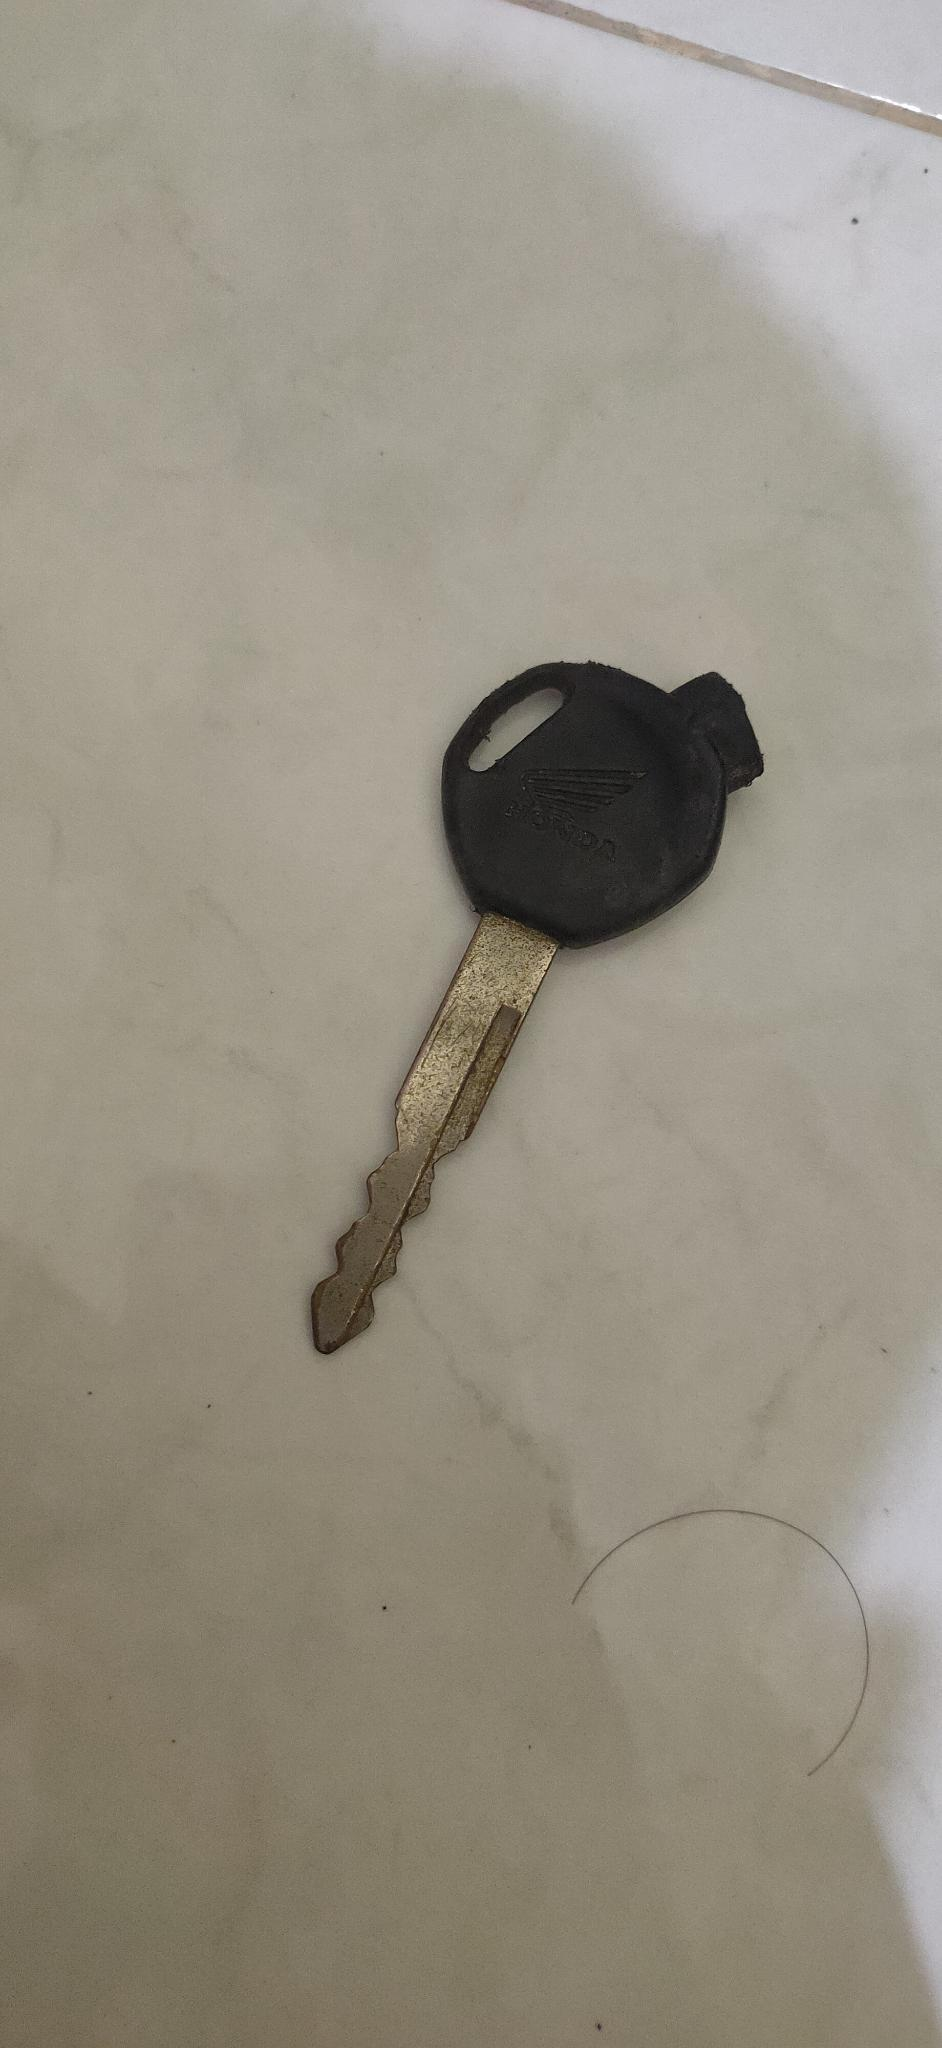keys: (248, 569, 789, 1429)
